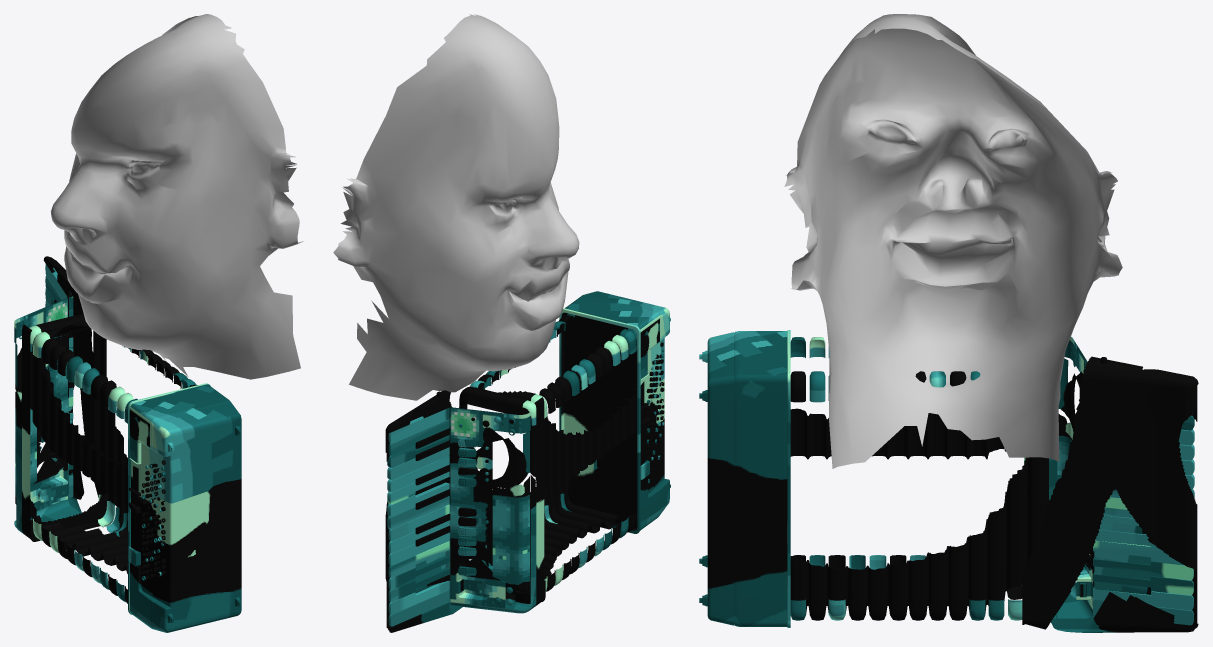
File: accordionman.fbx
3 renders of one model, left to right at view 1: azimuth 30°, elevation 25°; view 2: azimuth 150°, elevation 25°; view 3: azimuth 270°, elevation 25°, orthographic. The views are drawn at different scales.
Parts seen in each view (by area): view 1: FBHead, Accordion_Back1.001, Furs, Accordion_Back1; view 2: FBHead, Accordion_Back1, Accordion_Back1.001, Furs; view 3: FBHead, Accordion_Back1, Furs, Accordion_Back1.001.
Part boxes in pixels (<box>): FBHead: <box>50,14,303,379</box>; Accordion_Back1.001: <box>128,383,241,632</box>; Furs: <box>29,313,197,603</box>; Accordion_Back1: <box>14,256,111,541</box>; FBHead: <box>333,14,579,400</box>; Accordion_Back1: <box>385,390,545,632</box>; Accordion_Back1.001: <box>559,291,670,533</box>; Furs: <box>459,313,644,603</box>; FBHead: <box>784,14,1122,468</box>; Accordion_Back1: <box>1022,337,1198,632</box>; Furs: <box>790,337,1048,620</box>; Accordion_Back1.001: <box>699,330,790,627</box>.
Size of the model in its own units: 118 by 308 by 218.
